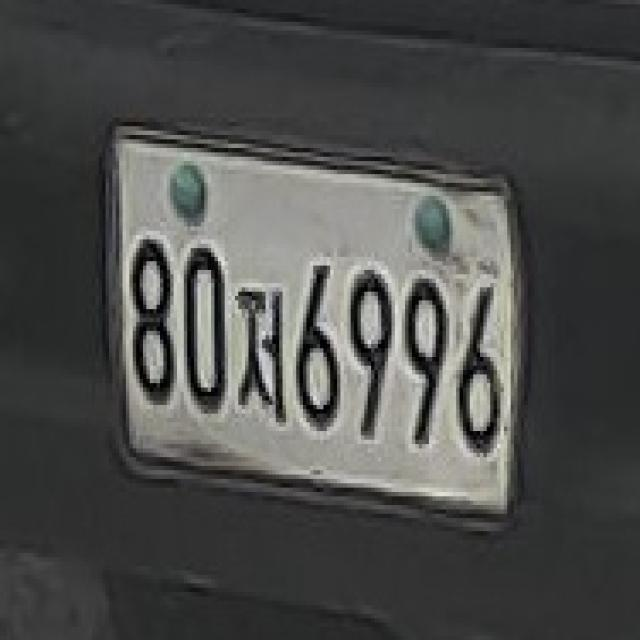plat: (101, 118, 527, 533)
